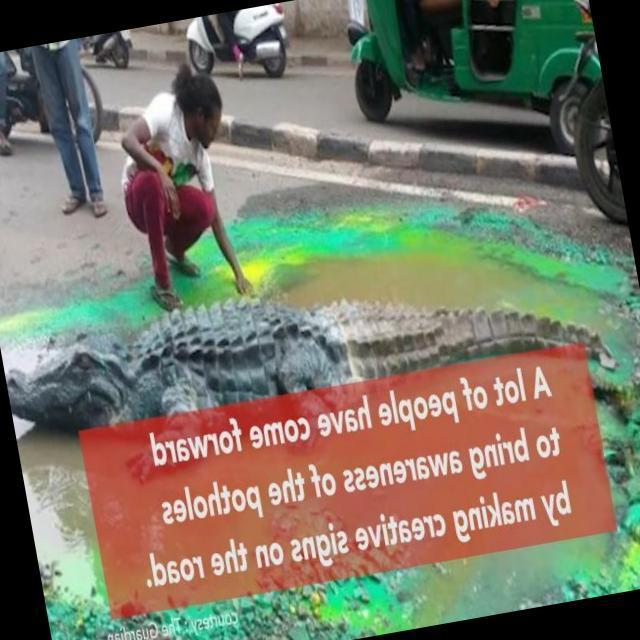Pothole: (302, 445, 622, 634), (24, 438, 290, 610), (267, 229, 601, 338)
